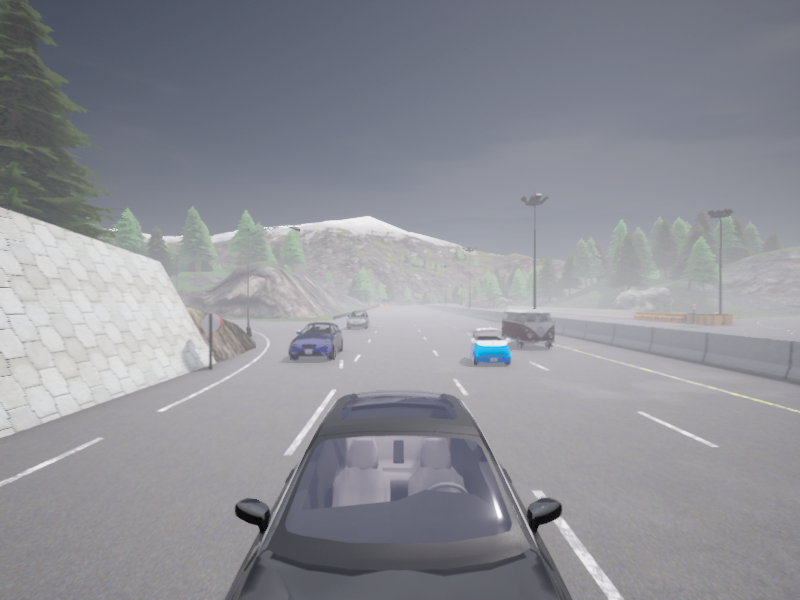vehicle: (225, 390, 571, 599), (289, 322, 343, 360), (502, 309, 555, 347), (470, 328, 510, 365), (347, 310, 368, 329), (460, 302, 463, 305)
